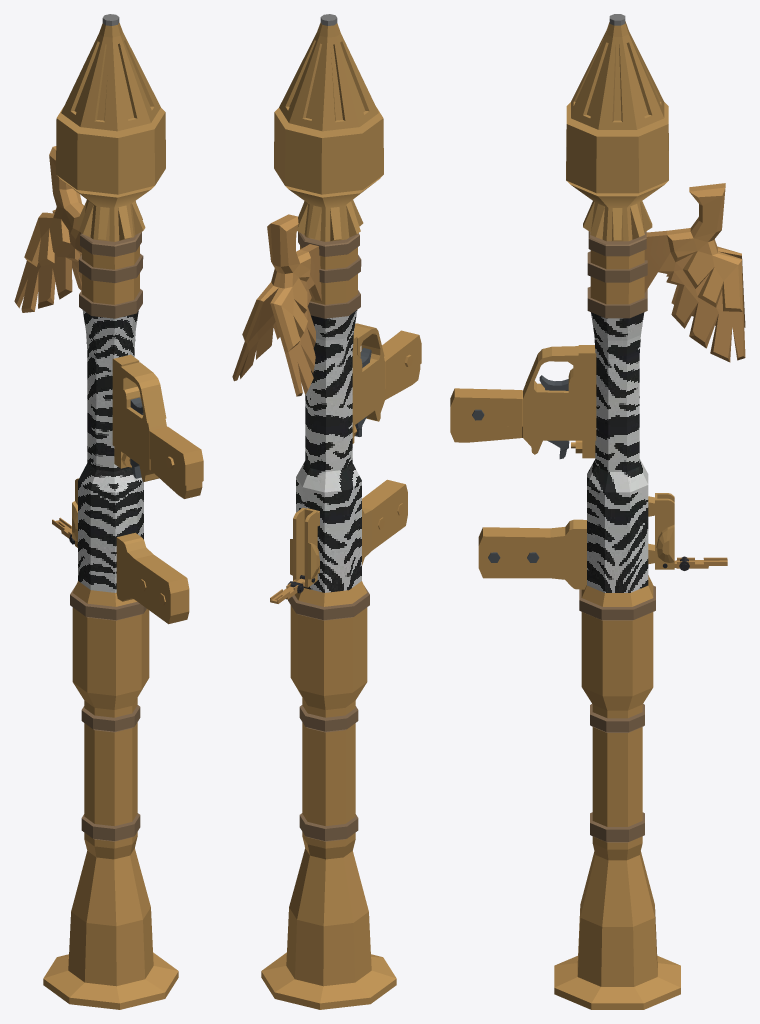
Rendered from supporter_sunfire_rpg7.glb.
The picture shows the model from 3 angles, left to right: view 1: azimuth 30°, elevation 25°; view 2: azimuth 150°, elevation 25°; view 3: azimuth 270°, elevation 25°; orthographic projection.
Visible parts, largest first — view 1: supporter_sunfire_rpg7; view 2: supporter_sunfire_rpg7; view 3: supporter_sunfire_rpg7.
Part boxes in pixels (bbox=[...]): supporter_sunfire_rpg7: bbox=[14, 14, 203, 1009]; supporter_sunfire_rpg7: bbox=[232, 14, 421, 1009]; supporter_sunfire_rpg7: bbox=[450, 14, 745, 1009].
Bounding box in the file's own units: 0.1658 × 1.4 × 0.3868.
Materials: 1 (1 with a texture image).
